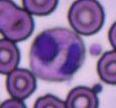N: (29, 27, 85, 80)
